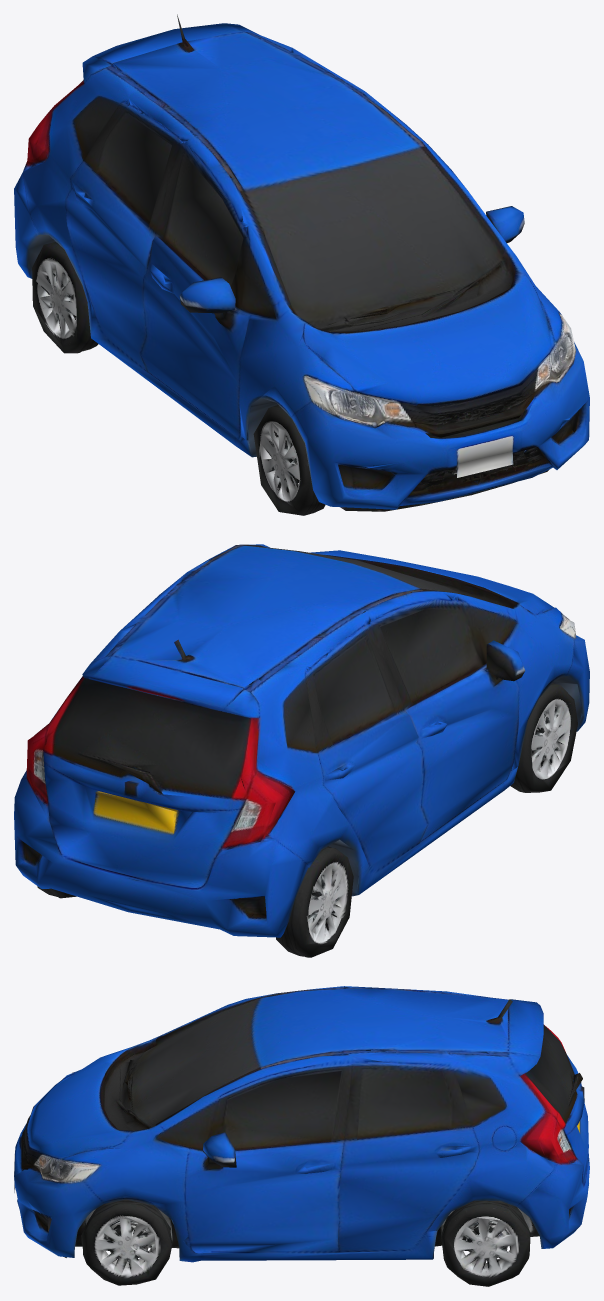
The model's file is v07-hatchback-6k.glb.
3 views of the same model, one above another, from view 1: azimuth 30°, elevation 25°; view 2: azimuth 150°, elevation 25°; view 3: azimuth 270°, elevation 25° (orthographic). The views are drawn at different scales.
Parts seen in each view (by area): view 1: tripo_node_731cbbd1-b062-49c1-8086-f11bcbb026cd; view 2: tripo_node_731cbbd1-b062-49c1-8086-f11bcbb026cd; view 3: tripo_node_731cbbd1-b062-49c1-8086-f11bcbb026cd.
Boxes of the visible parts, bbox=[...] form: tripo_node_731cbbd1-b062-49c1-8086-f11bcbb026cd: bbox=[14, 14, 589, 515]; tripo_node_731cbbd1-b062-49c1-8086-f11bcbb026cd: bbox=[14, 544, 589, 957]; tripo_node_731cbbd1-b062-49c1-8086-f11bcbb026cd: bbox=[14, 986, 589, 1286].
Size of the model in its own units: 0.5367 by 0.4442 by 0.9784.
Materials: 1 (1 with a texture image).
